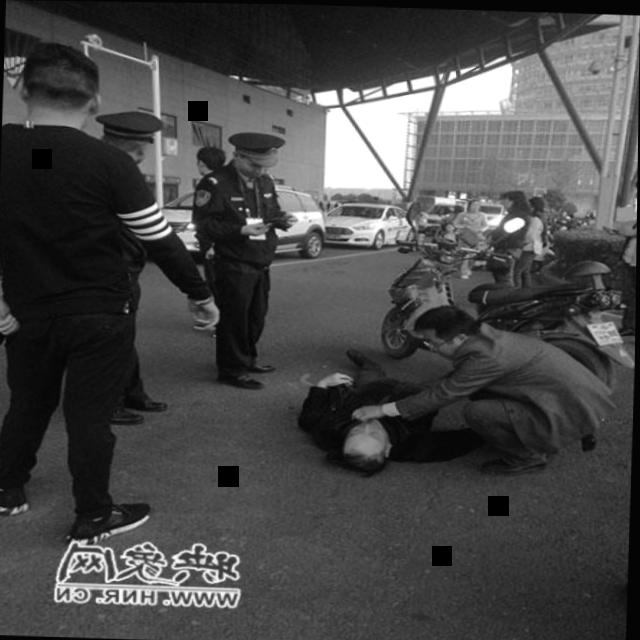Fall-Detected: (289, 341, 458, 483)
